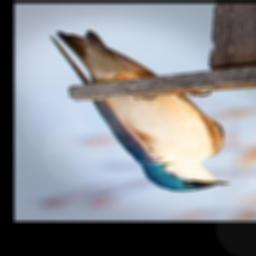Swallow: (47, 30, 232, 192)
